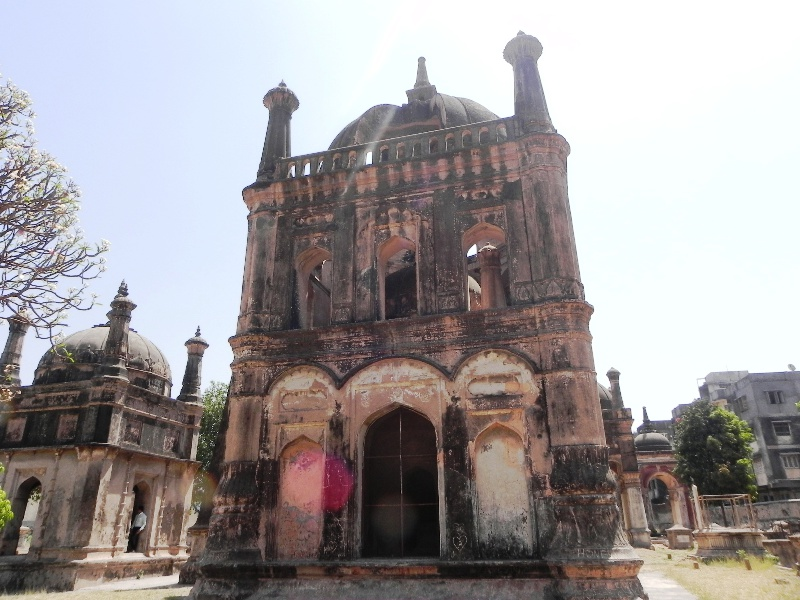Spalling: (462, 409, 499, 436), (477, 442, 496, 462)
